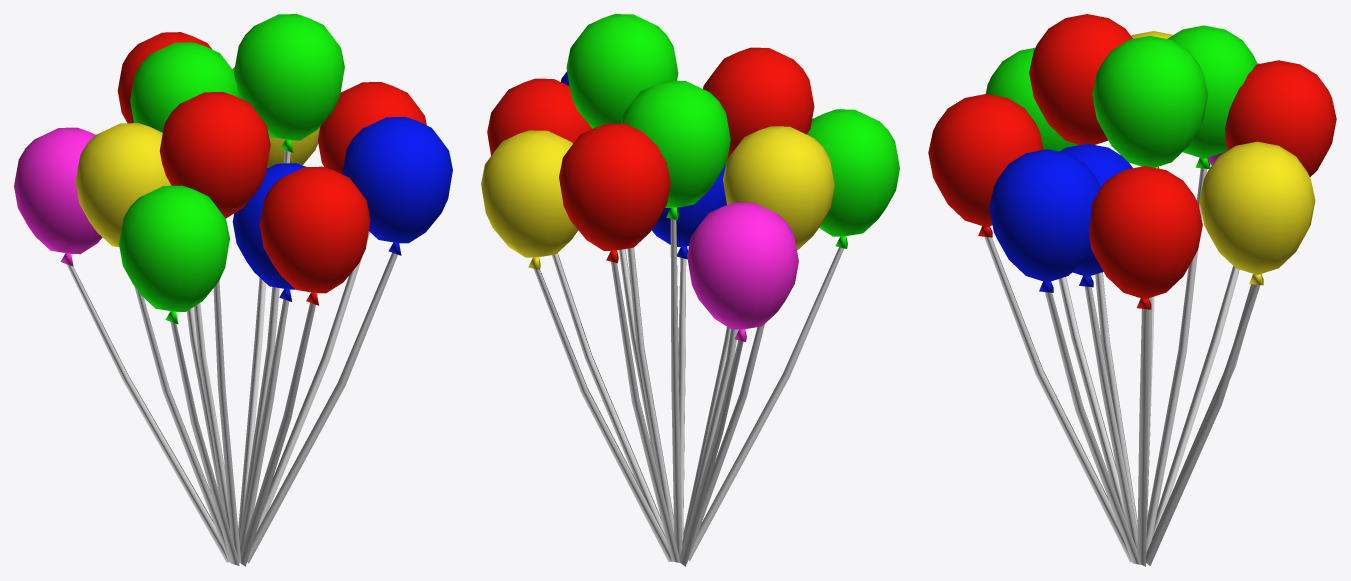
File: Globos.fbx
3 renders of one model, left to right at view 1: azimuth 30°, elevation 25°; view 2: azimuth 150°, elevation 25°; view 3: azimuth 270°, elevation 25°, orthographic. The views are drawn at different scales.
Parts seen in each view (by area): view 1: Cube.013; view 2: Cube.013; view 3: Cube.013.
Part boxes in pixels (x1,y1,x2,y2): Cube.013: (14,14,452,566); Cube.013: (481,14,899,566); Cube.013: (928,14,1336,566).
Size of the model in its own units: 1228 by 1785 by 1203.
